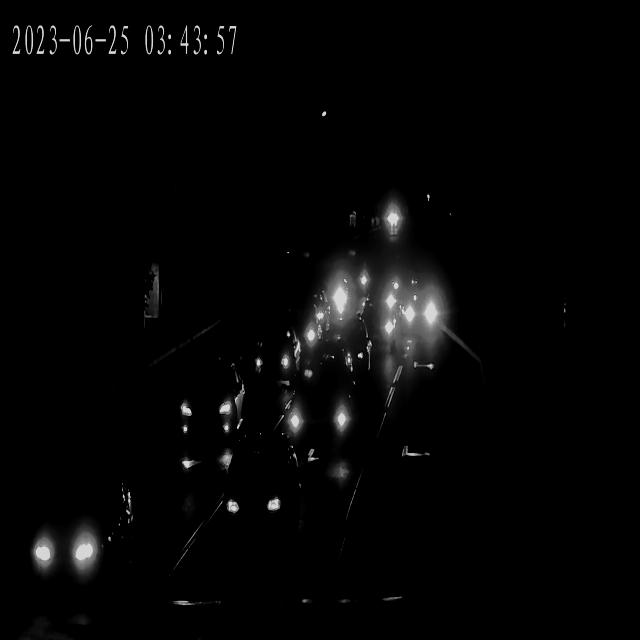Car: (8, 470, 133, 604), (216, 448, 301, 539), (168, 359, 246, 443), (284, 384, 359, 446), (300, 272, 359, 330), (394, 284, 451, 339), (247, 329, 303, 383), (264, 307, 322, 358), (361, 292, 398, 365), (329, 252, 367, 315), (338, 319, 373, 385), (371, 264, 402, 310), (380, 208, 402, 234)
